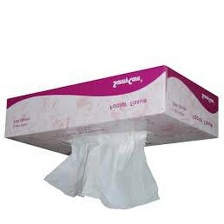book: (0, 60, 224, 163)
tissue: (38, 125, 164, 214)
